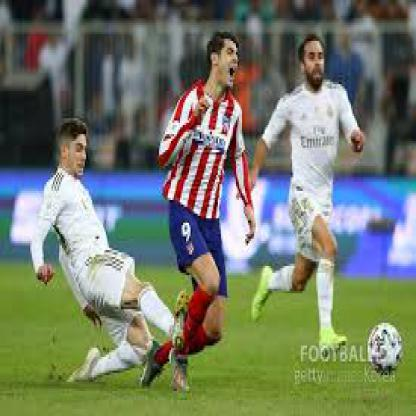Fall_Down: (27, 116, 191, 384)
